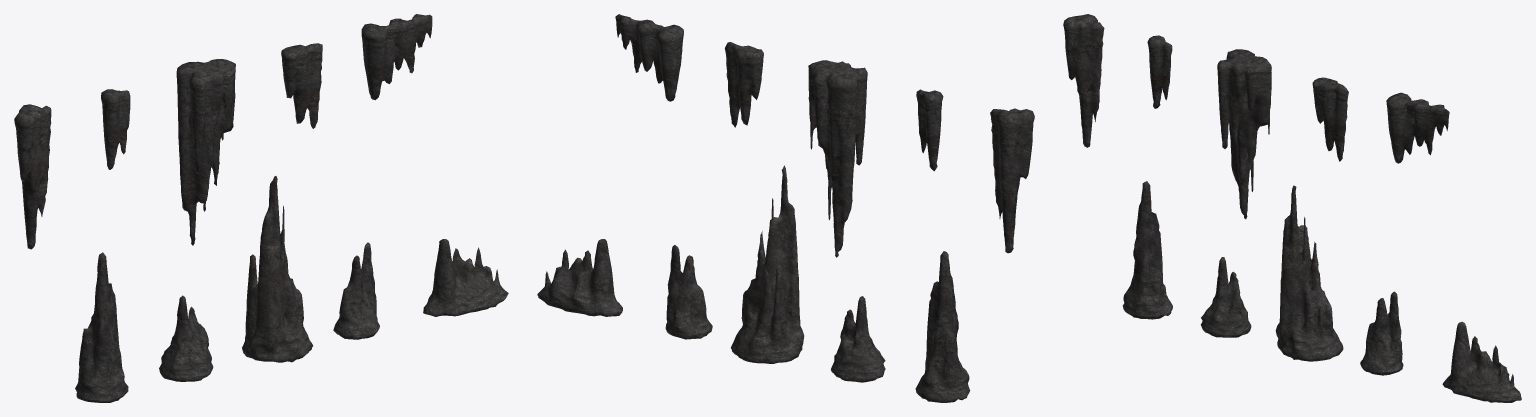
Rendered from CaveRockPack1_Set.fbx.
3 renders of one model, left to right at view 1: azimuth 30°, elevation 25°; view 2: azimuth 150°, elevation 25°; view 3: azimuth 330°, elevation 25°, orthographic. The views are drawn at different scales.
Parts seen in each view (by area): view 1: CaveRockPack1_High3, CaveRockPack1_Low3, CaveRockPack1_Low1, CaveRockPack1_Low5, CaveRockPack1_High1, CaveRockPack1_High5, CaveRockPack1_Low2, CaveRockPack1_Low4, CaveRockPack1_High4, CaveRockPack1_High2; view 2: CaveRockPack1_Low3, CaveRockPack1_High3, CaveRockPack1_Low1, CaveRockPack1_High1, CaveRockPack1_Low5, CaveRockPack1_High5, CaveRockPack1_Low4, CaveRockPack1_Low2, CaveRockPack1_High4, CaveRockPack1_High2; view 3: CaveRockPack1_Low3, CaveRockPack1_High3, CaveRockPack1_Low1, CaveRockPack1_Low5, CaveRockPack1_High1, CaveRockPack1_High5, CaveRockPack1_Low4, CaveRockPack1_Low2, CaveRockPack1_High4, CaveRockPack1_High2.
Boxes of the visible parts, box(x1,y1,x2,y2) form: CaveRockPack1_High3: box(176, 59, 235, 245); CaveRockPack1_Low3: box(242, 176, 312, 362); CaveRockPack1_Low1: box(75, 252, 128, 402); CaveRockPack1_Low5: box(423, 239, 508, 316); CaveRockPack1_High1: box(14, 104, 51, 249); CaveRockPack1_High5: box(361, 14, 432, 100); CaveRockPack1_Low2: box(159, 295, 213, 381); CaveRockPack1_Low4: box(333, 242, 379, 339); CaveRockPack1_High4: box(281, 43, 322, 128); CaveRockPack1_High2: box(101, 89, 130, 169); CaveRockPack1_Low3: box(731, 165, 804, 363); CaveRockPack1_High3: box(808, 60, 867, 257); CaveRockPack1_Low1: box(915, 251, 970, 402); CaveRockPack1_High1: box(990, 108, 1034, 253); CaveRockPack1_Low5: box(537, 239, 622, 316); CaveRockPack1_High5: box(615, 14, 683, 101); CaveRockPack1_Low4: box(665, 245, 712, 339); CaveRockPack1_Low2: box(830, 296, 885, 382); CaveRockPack1_High4: box(724, 42, 763, 127); CaveRockPack1_High2: box(916, 89, 943, 171); CaveRockPack1_Low3: box(1275, 185, 1343, 361); CaveRockPack1_High3: box(1217, 49, 1271, 219); CaveRockPack1_Low1: box(1122, 181, 1172, 319); CaveRockPack1_Low5: box(1442, 321, 1521, 402); CaveRockPack1_High1: box(1063, 14, 1104, 147); CaveRockPack1_High5: box(1386, 92, 1449, 163); CaveRockPack1_Low4: box(1360, 291, 1403, 375); CaveRockPack1_Low2: box(1200, 257, 1251, 337); CaveRockPack1_High4: box(1312, 77, 1348, 161); CaveRockPack1_High2: box(1147, 35, 1172, 108).
Bounding box in the file's own units: 13017 × 7616 × 1541.
